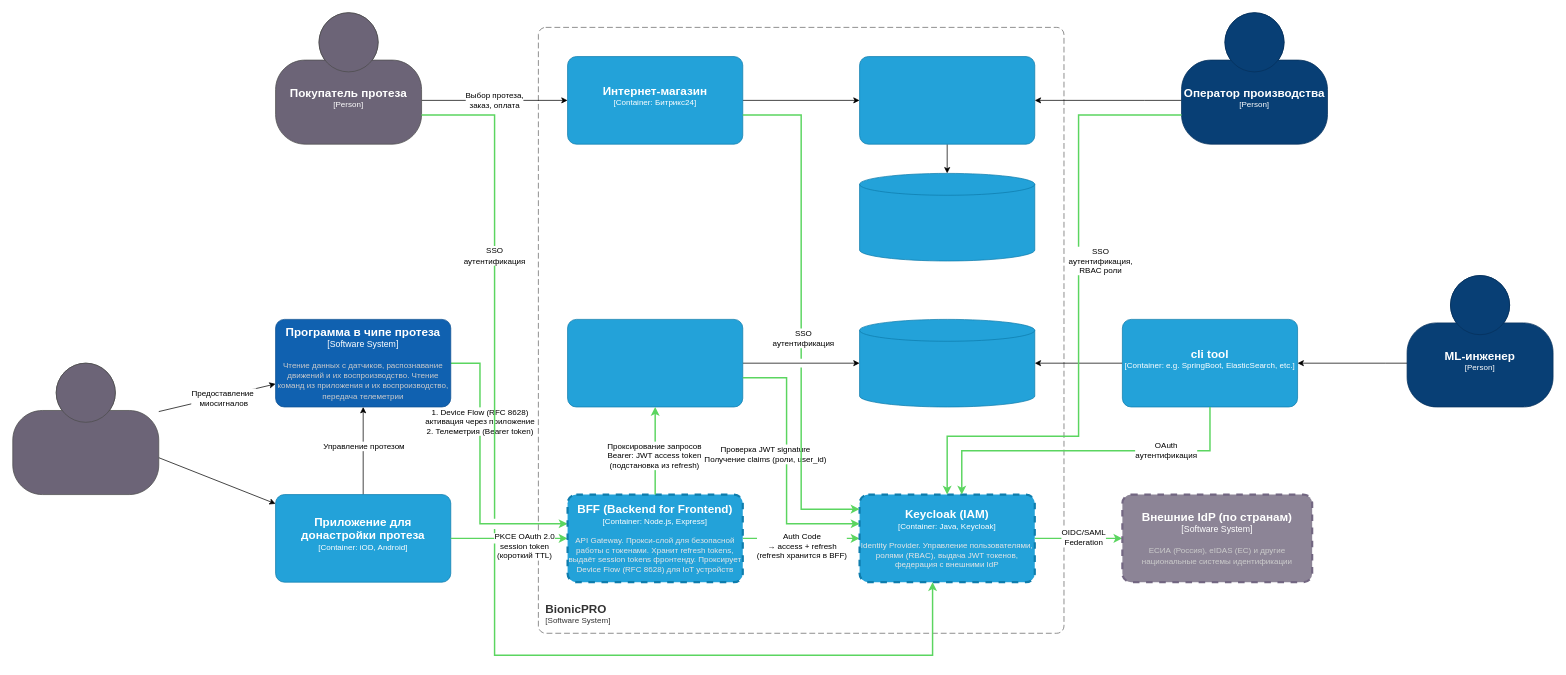
This 1566x675 diagram has some shape labels left out. The centre of each missing label's shape, as x and y in pixels:
API [Container: e.g. SpringBoot, ElasticSearch, etc.]: point (655, 363)
CRM [Container: Битрикс24]: point (947, 100)
CRM DB [Container: e.g. Oracle Database 12]: point (947, 217)
База данных [Container: PostgreSQL]: point (947, 363)
Пилот протеза [Person] С этого человека считываются данные: point (85, 428)
